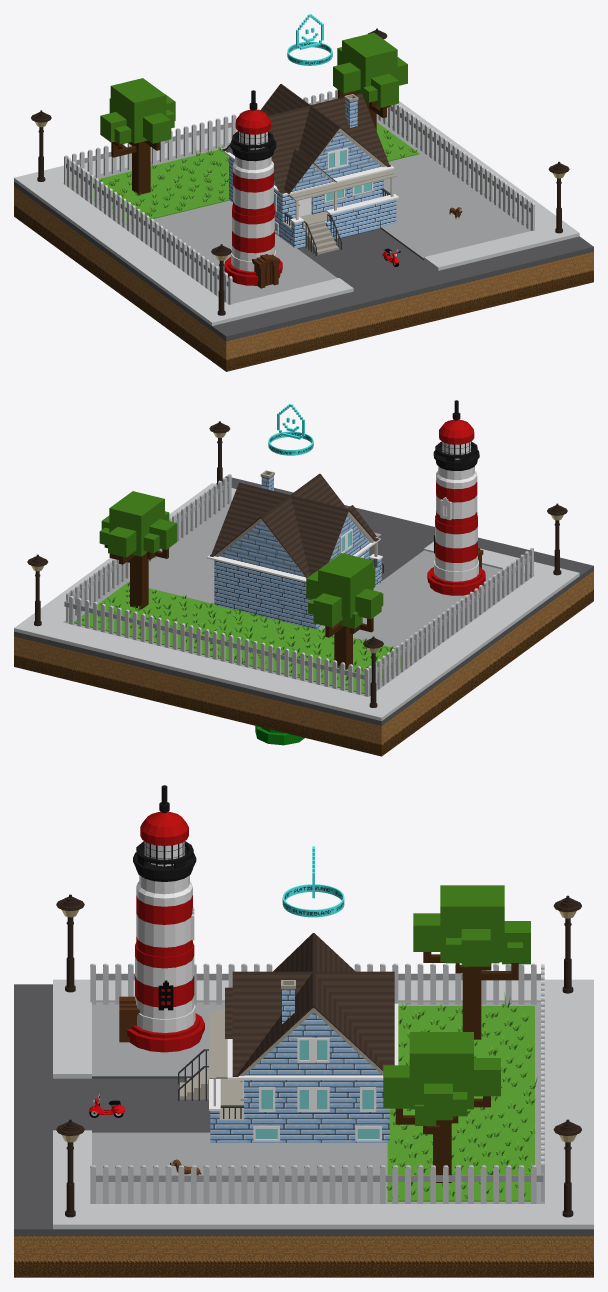
3 views of the same model, one above another, from view 1: azimuth 30°, elevation 25°; view 2: azimuth 150°, elevation 25°; view 3: azimuth 270°, elevation 25° (orthographic). The views are drawn at different scales.
Visible parts, largest first — view 1: Cube.004, Cube.547, OBJRANDOM_LIGHTHOUSE, TYPE_PREMIUM; view 2: Cube.004, Cube.547, OBJRANDOM_LIGHTHOUSE, TYPE_PREMIUM, UNDERGROUND_PIPES; view 3: Cube.004, Cube.547, OBJRANDOM_LIGHTHOUSE, TYPE_PREMIUM.
Part boxes in pixels (bbox=[...]): Cube.004: bbox=[14, 28, 593, 371]; Cube.547: bbox=[221, 84, 398, 255]; OBJRANDOM_LIGHTHOUSE: bbox=[224, 90, 282, 288]; TYPE_PREMIUM: bbox=[287, 14, 332, 65]; Cube.004: bbox=[14, 421, 593, 756]; Cube.547: bbox=[207, 470, 383, 629]; OBJRANDOM_LIGHTHOUSE: bbox=[427, 400, 485, 595]; TYPE_PREMIUM: bbox=[268, 404, 313, 455]; UNDERGROUND_PIPES: bbox=[255, 726, 304, 745]; Cube.004: bbox=[14, 885, 593, 1277]; Cube.547: bbox=[178, 933, 398, 1142]; OBJRANDOM_LIGHTHOUSE: bbox=[119, 785, 204, 1052]; TYPE_PREMIUM: bbox=[282, 846, 344, 917].
Size of the model in its own units: 4000 by 3050 by 4000.
37 materials, 5 textured.
